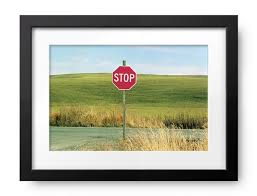Stop: (108, 57, 148, 94)
